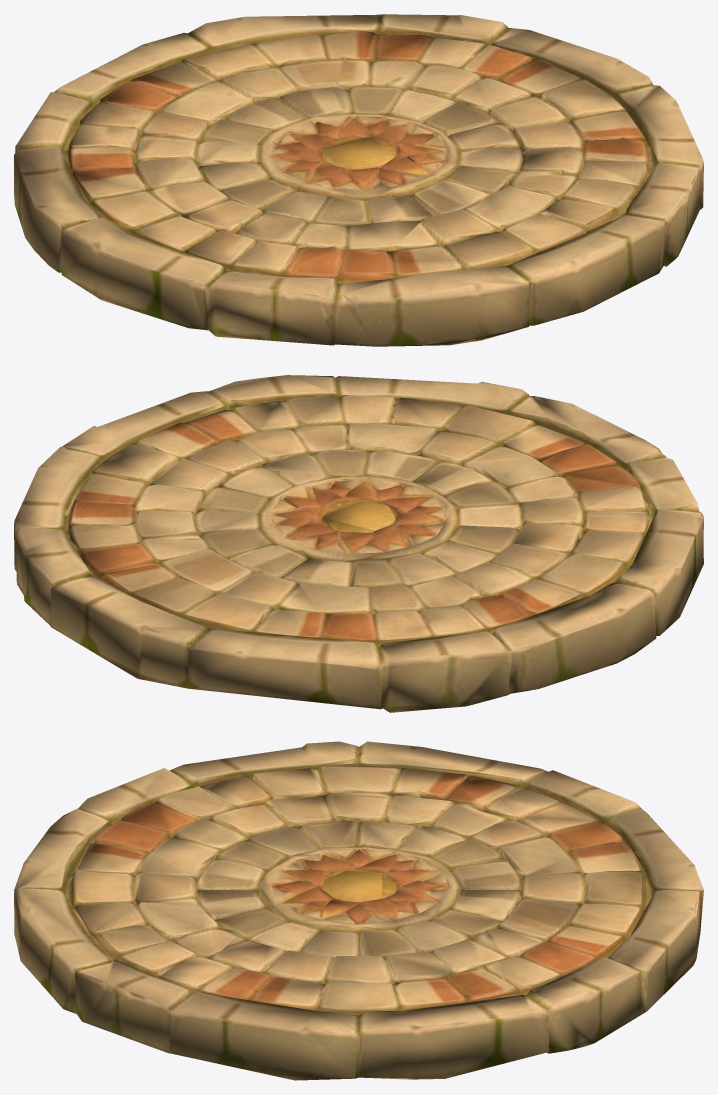
Rendered from plaza-tile.glb.
3 renders of one model, top to bottom at view 1: azimuth 30°, elevation 25°; view 2: azimuth 150°, elevation 25°; view 3: azimuth 270°, elevation 25°, orthographic.
Parts seen in each view (by area): view 1: Mesh1.0; view 2: Mesh1.0; view 3: Mesh1.0.
Part boxes in pixels (left/top/right/bottom): Mesh1.0: left=14, top=14, right=703, bottom=346; Mesh1.0: left=14, top=375, right=703, bottom=712; Mesh1.0: left=14, top=741, right=703, bottom=1080.
Bounding box in the file's own units: 1.9 × 0.1738 × 1.9.
Materials: 1 (1 with a texture image).
